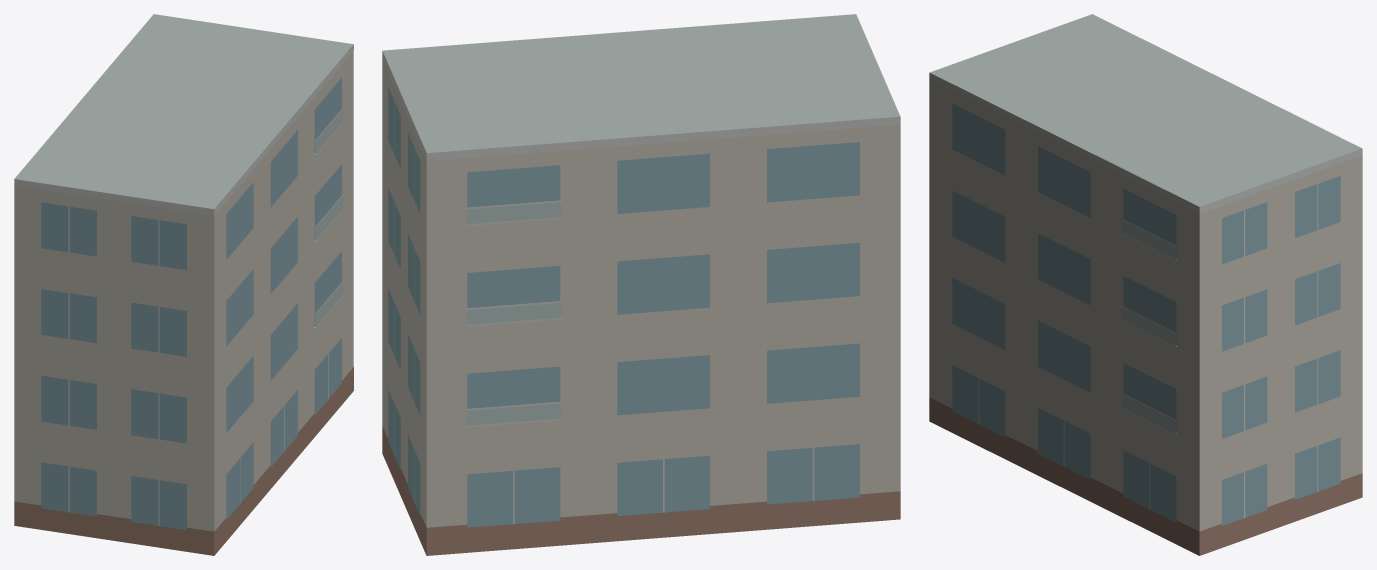
The model's file is survey-upis-33047601.glb.
3 renders of one model, left to right at view 1: azimuth 30°, elevation 25°; view 2: azimuth 150°, elevation 25°; view 3: azimuth 270°, elevation 25°, orthographic. The views are drawn at different scales.
Visible parts, largest first — view 1: survey-upis-33047601.tmp; view 2: survey-upis-33047601.tmp; view 3: survey-upis-33047601.tmp.
Part boxes in pixels (x1=…): survey-upis-33047601.tmp: x1=14, y1=14, x2=353, y2=555; survey-upis-33047601.tmp: x1=382, y1=14, x2=900, y2=555; survey-upis-33047601.tmp: x1=929, y1=14, x2=1362, y2=555.
Bounding box in the file's own units: 14.83 × 12.5 × 14.07.
